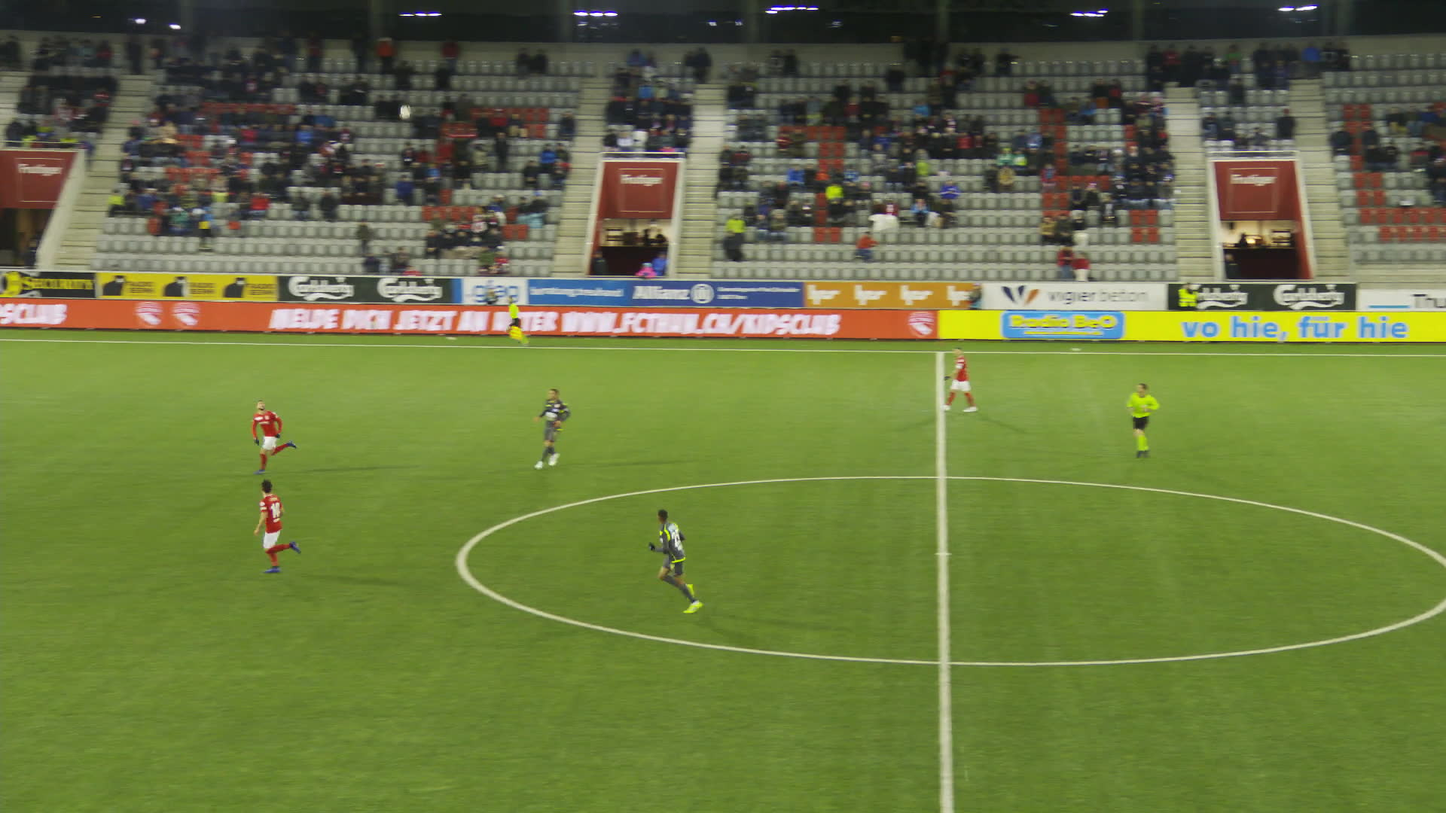ball: (398, 102, 411, 121)
player: (643, 509, 704, 617), (243, 478, 309, 577), (240, 396, 302, 474), (518, 387, 565, 471), (926, 344, 969, 416)
referee: (1109, 381, 1152, 461), (496, 294, 522, 349)
